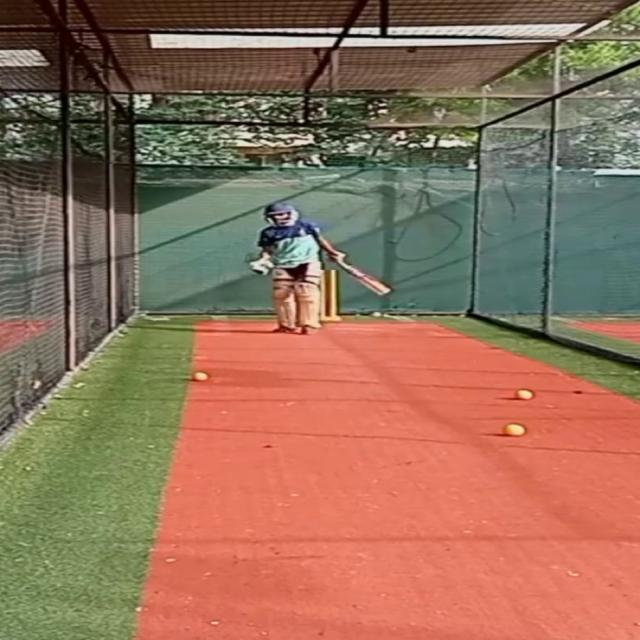ball: (494, 423, 526, 439), (513, 389, 536, 401), (187, 368, 205, 383)
stump: (317, 267, 340, 323)
